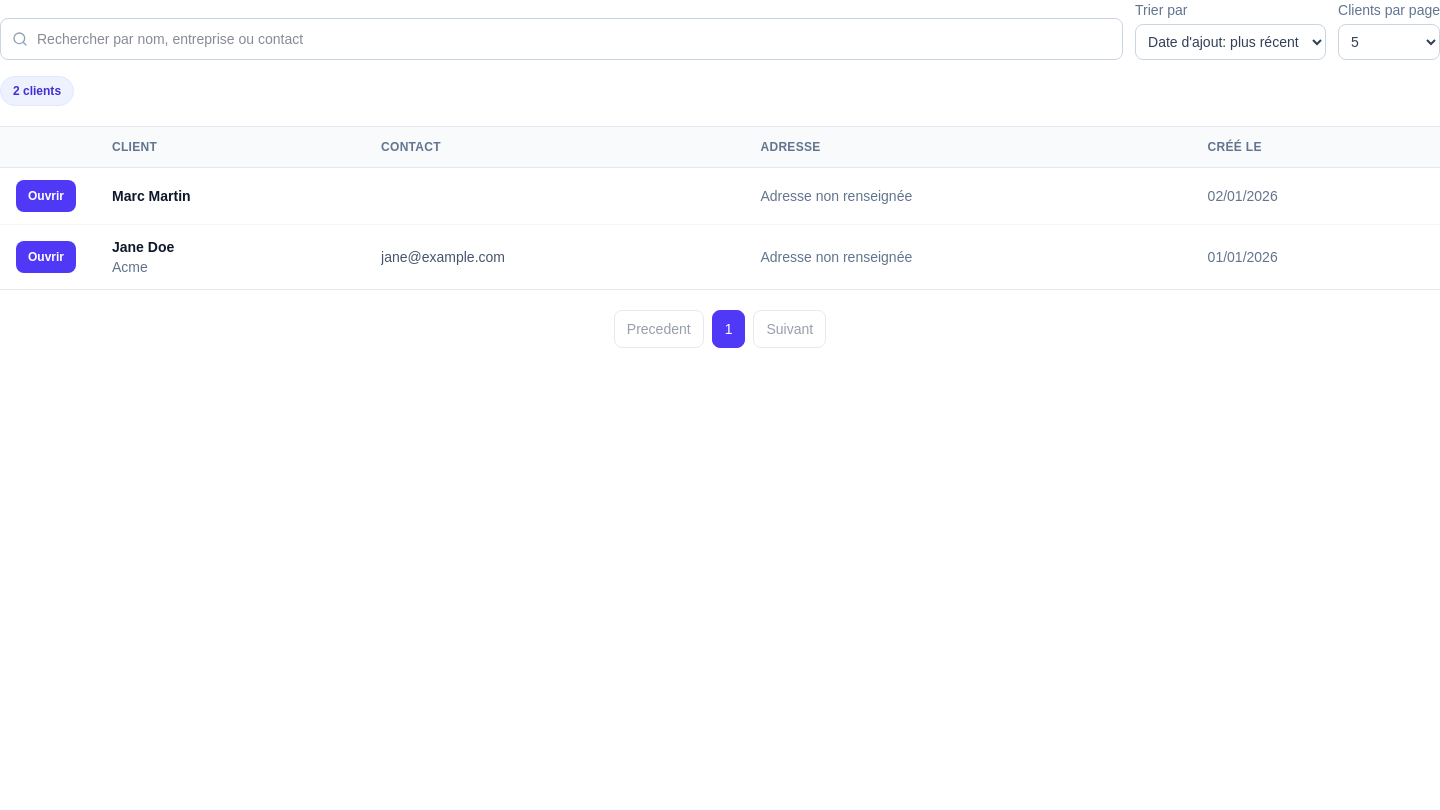
Test: CustomersList › filters customers and opens the selected customer details
Type "Jane" into the search field with placeholder "Rechercher par nom, entreprise ou contact" at (562, 39), box [0,18,1123,60]
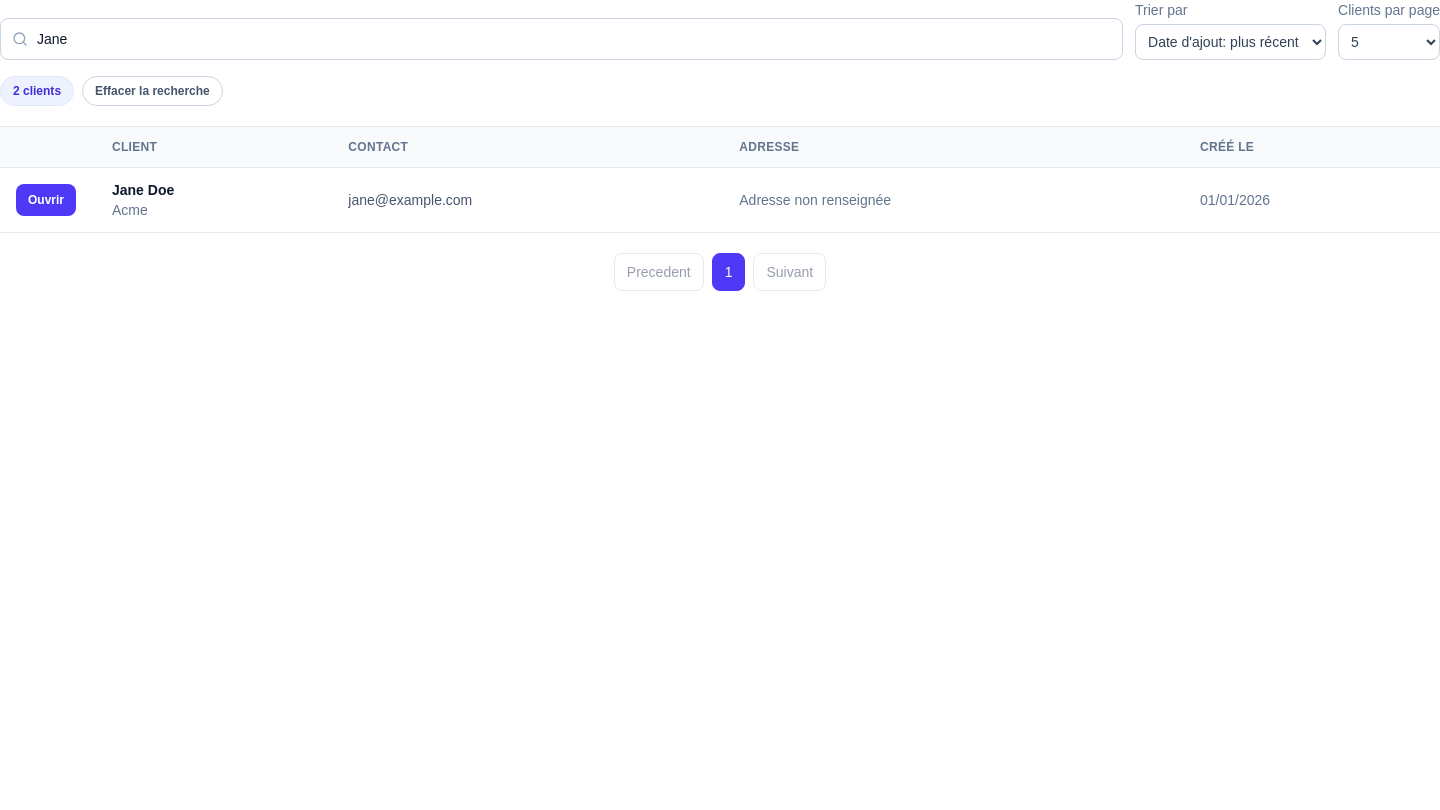
expect the text "Jane Doe" is shown 2 times: met
expect the text "Marc Martin" is gone: met
Click the button with aria-label "Ouvrir le client Jane Doe" at (46, 200), box [16,184,76,216]
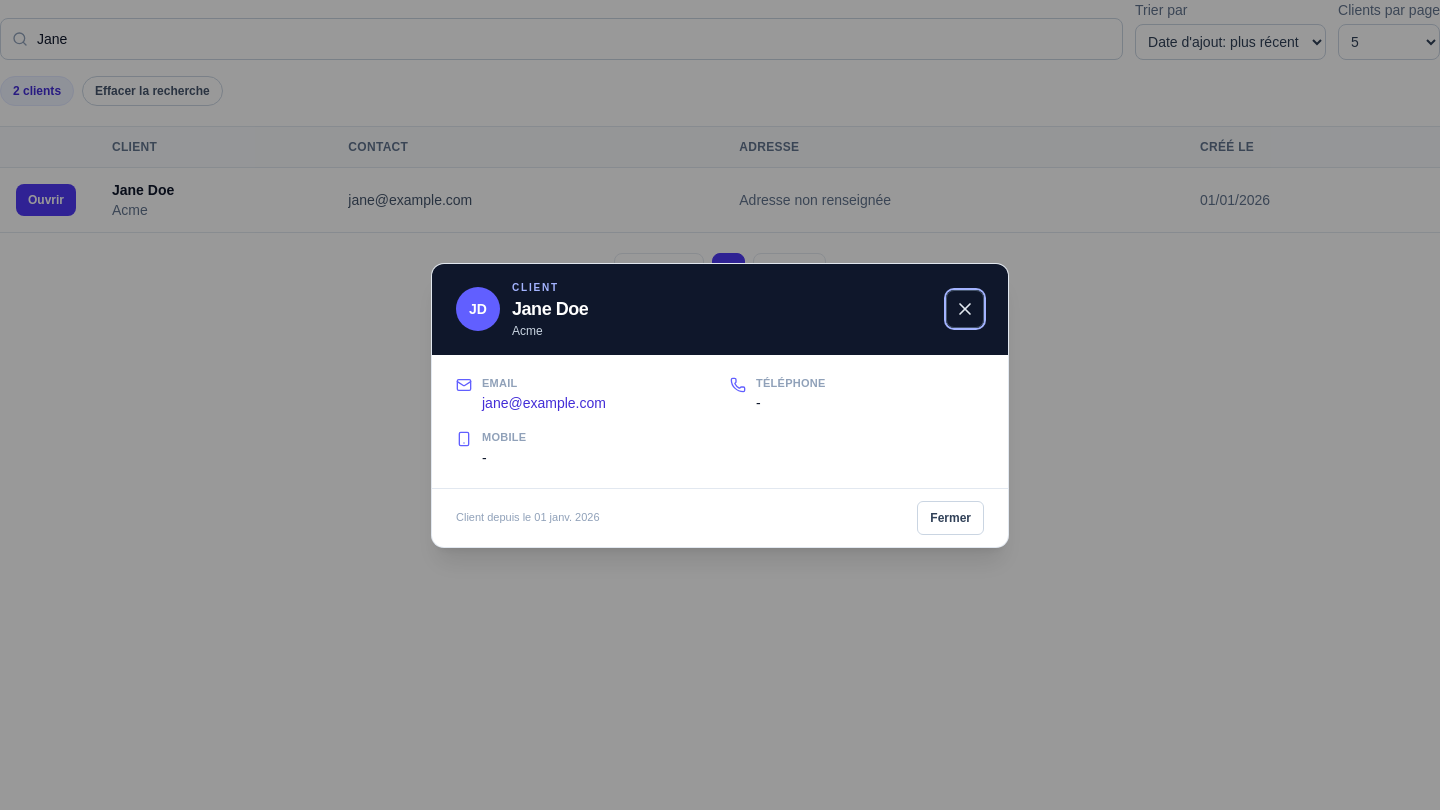
expect the dialog shows "Jane": met, box [512,298,588,318]
